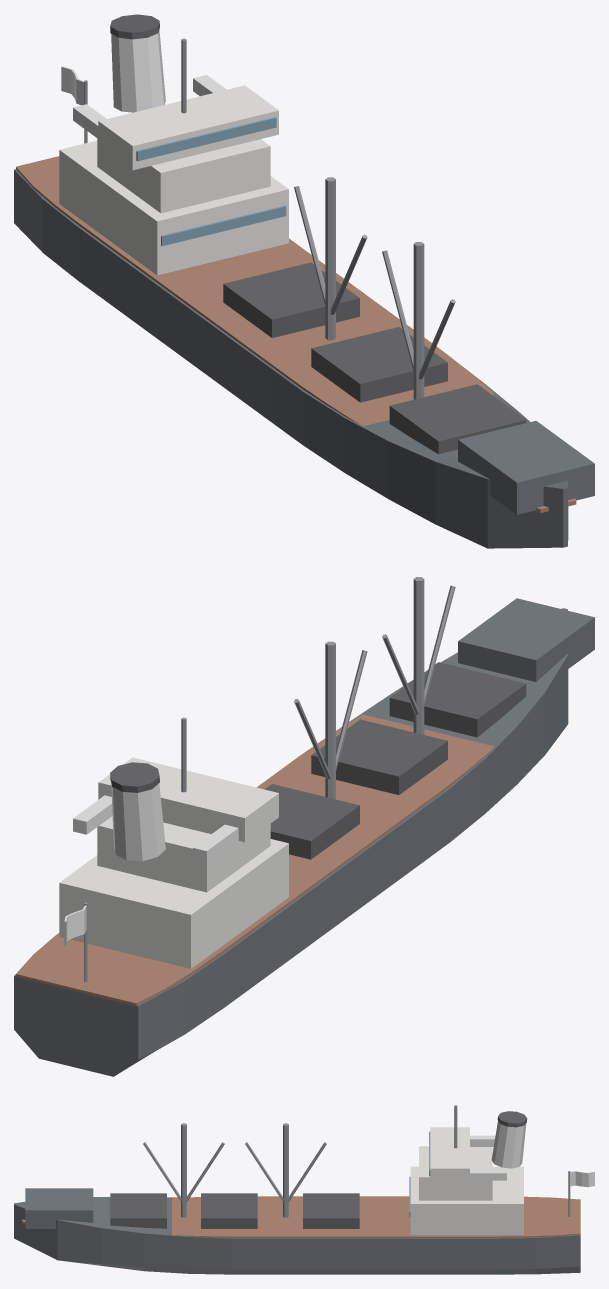
The model's file is civ_unit_transport.glb.
The picture shows the model from 3 angles, top to bottom: view 1: azimuth 30°, elevation 25°; view 2: azimuth 150°, elevation 25°; view 3: azimuth 270°, elevation 25°; orthographic projection. The views are drawn at different scales.
Parts seen in each view (by area): view 1: civ_unit_transport; view 2: civ_unit_transport; view 3: civ_unit_transport.
Part boxes in pixels (x1,y1,x2,y2): civ_unit_transport: [14, 14, 594, 548]; civ_unit_transport: [14, 577, 594, 1076]; civ_unit_transport: [14, 1105, 594, 1274].
Bounding box in the file's own units: 1.9 × 3.35 × 11.28.
